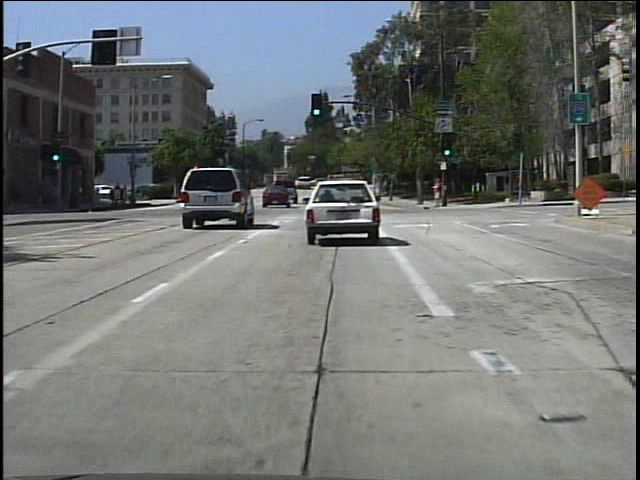person: (428, 174, 444, 209), (112, 179, 124, 208), (126, 182, 127, 209)
